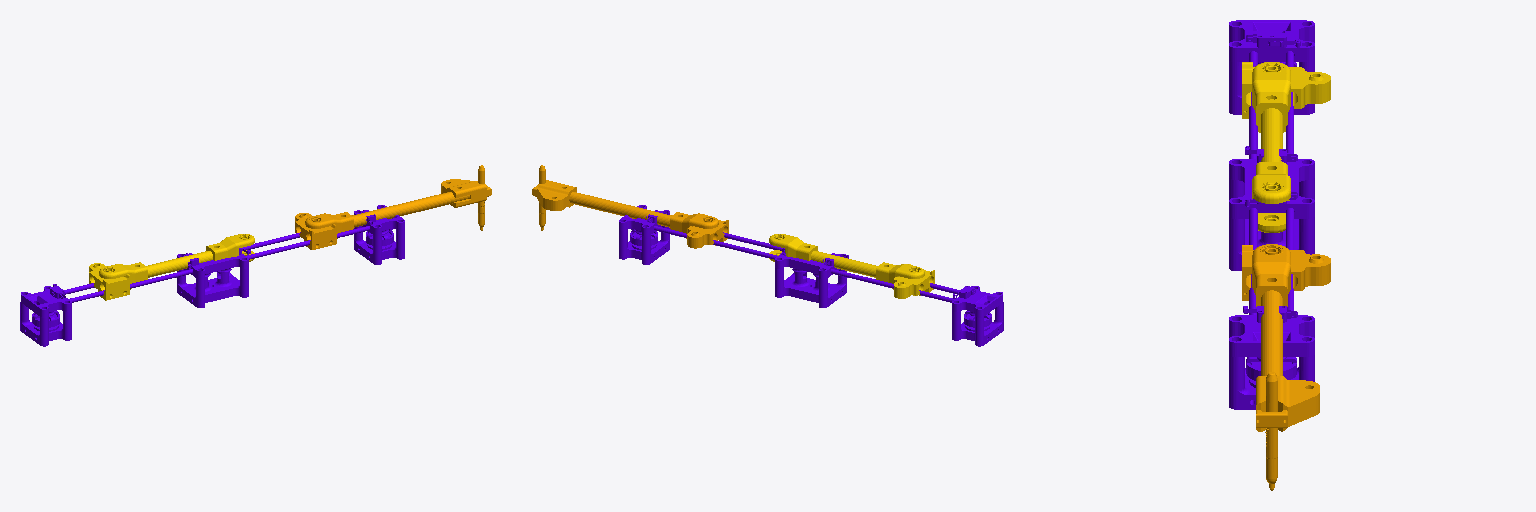
URDF robot description (aplotter):
<robot name="aplotter">
    <link name="base_link">
        <visual>
            <origin xyz="0 0 0" rpy="0 0 0" />
            <geometry>
                <mesh filename="package://aplotter_ros2/urdf/aplotter_base.stl" />
            </geometry>
            <material name="">
                <color rgba="0.450 0.039 0.980 1" />
            </material>
        </visual>
    </link>



    <link name="leftPLink">
        <visual>
            <origin xyz="0 0 0" rpy="0 0 0" />
            <geometry>
                <mesh filename="package://aplotter_ros2/urdf/carriage.stl" />
            </geometry>
            <material name="">
                <color rgba="0.980 0.827 0.039 1" />
            </material>
        </visual>
    </link>
    <joint name="leftPJoint" type="prismatic">
        <origin xyz="0 0 71.042" rpy="0 0 0" />
        <parent link="base_link" />
        <child link="leftPLink" />
        <axis xyz="1 0 0" />
        <limit lower="-300" upper="-100" effort="0" velocity="0" />
    </joint>

    <link name="leftLink">
        <visual>
            <origin xyz="0 0 0" rpy="0 0 0" />
            <geometry>
                <mesh filename="package://aplotter_ros2/urdf/larm.stl" />
            </geometry>
            <material name="">
                <color rgba="0.980 0.827 0.039 1" />
            </material>
        </visual>
    </link>
    <joint name="leftJoint" type="continuous">
        <origin xyz="0 0 0" rpy="0 0 0" />
        <parent link="leftPLink" />
        <child link="leftLink" />
        <axis xyz="0 0 1" />
        <limit effort="0" velocity="0" />
    </joint>


    <link name="rightPLink">
        <visual>
            <origin xyz="0 0 0" rpy="0 0 0" />
            <geometry>
                <mesh filename="package://aplotter_ros2/urdf/carriage.stl" />
            </geometry>
            <material name="">
                <color rgba="0.980 0.674 0.039 1" />
            </material>
        </visual>
    </link>
    <joint name="rightPJoint" type="prismatic">
        <origin xyz="0 0 71.042" rpy="0 0 0" />
        <parent link="base_link" />
        <child link="rightPLink" />
        <axis xyz="1 0 0" />
        <limit lower="100" upper="300" effort="0" velocity="0" />
    </joint>

    <link name="rightLink">
        <visual>
            <origin xyz="0 0 0" rpy="0 0 0" />
            <geometry>
                <mesh filename="package://aplotter_ros2/urdf/rarm.stl" />
            </geometry>
            <material name="">
                <color rgba="0.980 0.674 0.039 1" />
            </material>
        </visual>
    </link>
    <joint name="rightJoint" type="continuous">
        <origin xyz="0 0 0" rpy="0 0 0" />
        <parent link="rightPLink" />
        <child link="rightLink" />
        <axis xyz="0 0 1" />
        <limit effort="0" velocity="0" />
    </joint>

</robot>

--- What the picture shows (computed from the rendered views, not written in the file) ---
Views: 3 orthographic renders of the robot side by side, from view 1: azimuth 30°, elevation 25°; view 2: azimuth 150°, elevation 25°; view 3: azimuth 270°, elevation 25°.
Robot: aplotter — 5 links, 4 joints (2 continuous, 2 prismatic); root link base_link; default pose: joints at zero except 2 at the middle of their limits (leftPJoint = -200, rightPJoint = 200).
Links seen in each view (by area): view 1: base_link, rightLink, leftLink, rightPLink, leftPLink; view 2: base_link, rightLink, leftLink, rightPLink, leftPLink; view 3: base_link, rightLink, leftLink, leftPLink, rightPLink.
Link boxes in pixels (x1,y1,x2,y2): base_link: [20, 205, 404, 346]; rightLink: [305, 165, 491, 238]; leftLink: [99, 234, 254, 289]; rightPLink: [295, 213, 336, 249]; leftPLink: [89, 263, 129, 300]; base_link: [619, 205, 1003, 346]; rightLink: [532, 165, 718, 238]; leftLink: [769, 234, 924, 295]; rightPLink: [687, 214, 728, 248]; leftPLink: [894, 264, 934, 298]; base_link: [1229, 20, 1314, 409]; rightLink: [1252, 244, 1319, 490]; leftLink: [1252, 62, 1290, 232]; leftPLink: [1242, 62, 1330, 118]; rightPLink: [1242, 245, 1330, 300].
Bounding box of the posed robot: 886 × 95.12 × 121 m (x, y, z).
Meshes: 4 distinct files referenced, 5 mesh visuals loaded (4 binary STL).